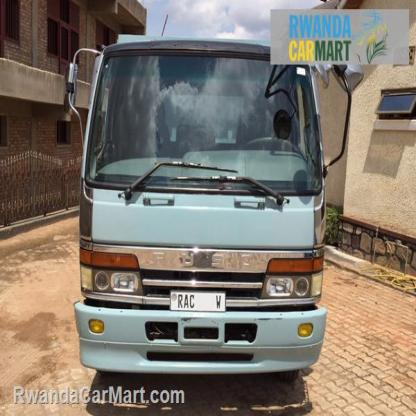truck: (64, 33, 328, 399)
